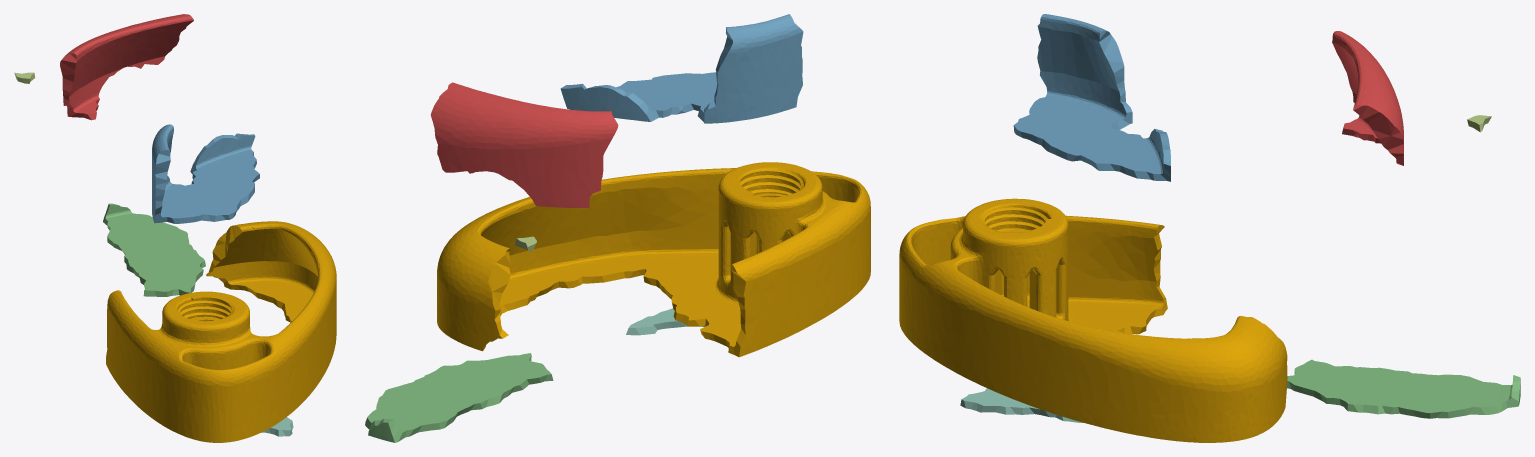
Rendered from fractured_6_6pcs_transformed.glb.
3 views of the same model, side by side, from view 1: azimuth 30°, elevation 25°; view 2: azimuth 150°, elevation 25°; view 3: azimuth 270°, elevation 25° (orthographic). The views are drawn at different scales.
Visible parts, largest first — view 1: piece_0.obj, piece_2.obj, piece_1.obj, piece_3.obj, piece_4.obj; view 2: piece_0.obj, piece_1.obj, piece_2.obj, piece_3.obj, piece_4.obj; view 3: piece_0.obj, piece_2.obj, piece_3.obj, piece_1.obj, piece_4.obj.
Part boxes in pixels (x1,y1,x2,y2): piece_0.obj: [106, 221, 336, 442]; piece_2.obj: [152, 124, 259, 223]; piece_1.obj: [60, 14, 193, 120]; piece_3.obj: [103, 203, 205, 296]; piece_4.obj: [261, 417, 293, 436]; piece_0.obj: [437, 162, 870, 357]; piece_1.obj: [430, 82, 618, 207]; piece_2.obj: [560, 14, 803, 123]; piece_3.obj: [365, 353, 553, 442]; piece_4.obj: [626, 308, 705, 335]; piece_0.obj: [899, 198, 1287, 442]; piece_2.obj: [1013, 14, 1170, 181]; piece_3.obj: [1287, 359, 1520, 418]; piece_1.obj: [1332, 31, 1403, 165]; piece_4.obj: [960, 388, 1083, 422].
Size of the model in its own units: 0.8951 by 0.9656 by 1.6.
